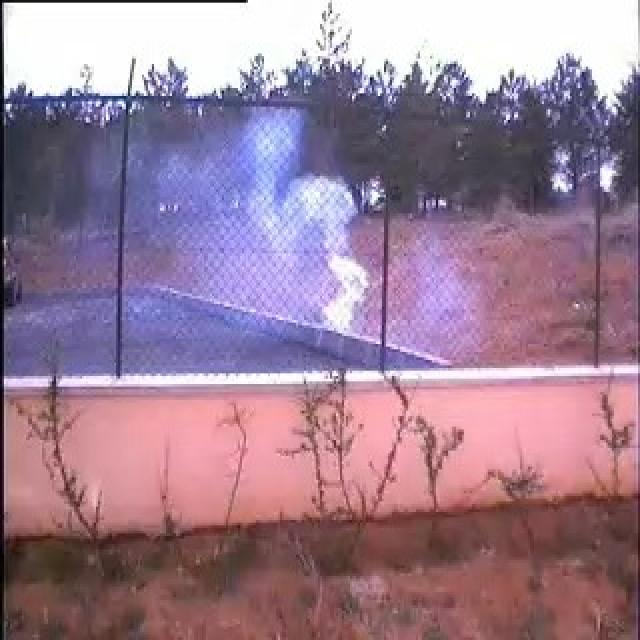smoke: (128, 101, 384, 340)
